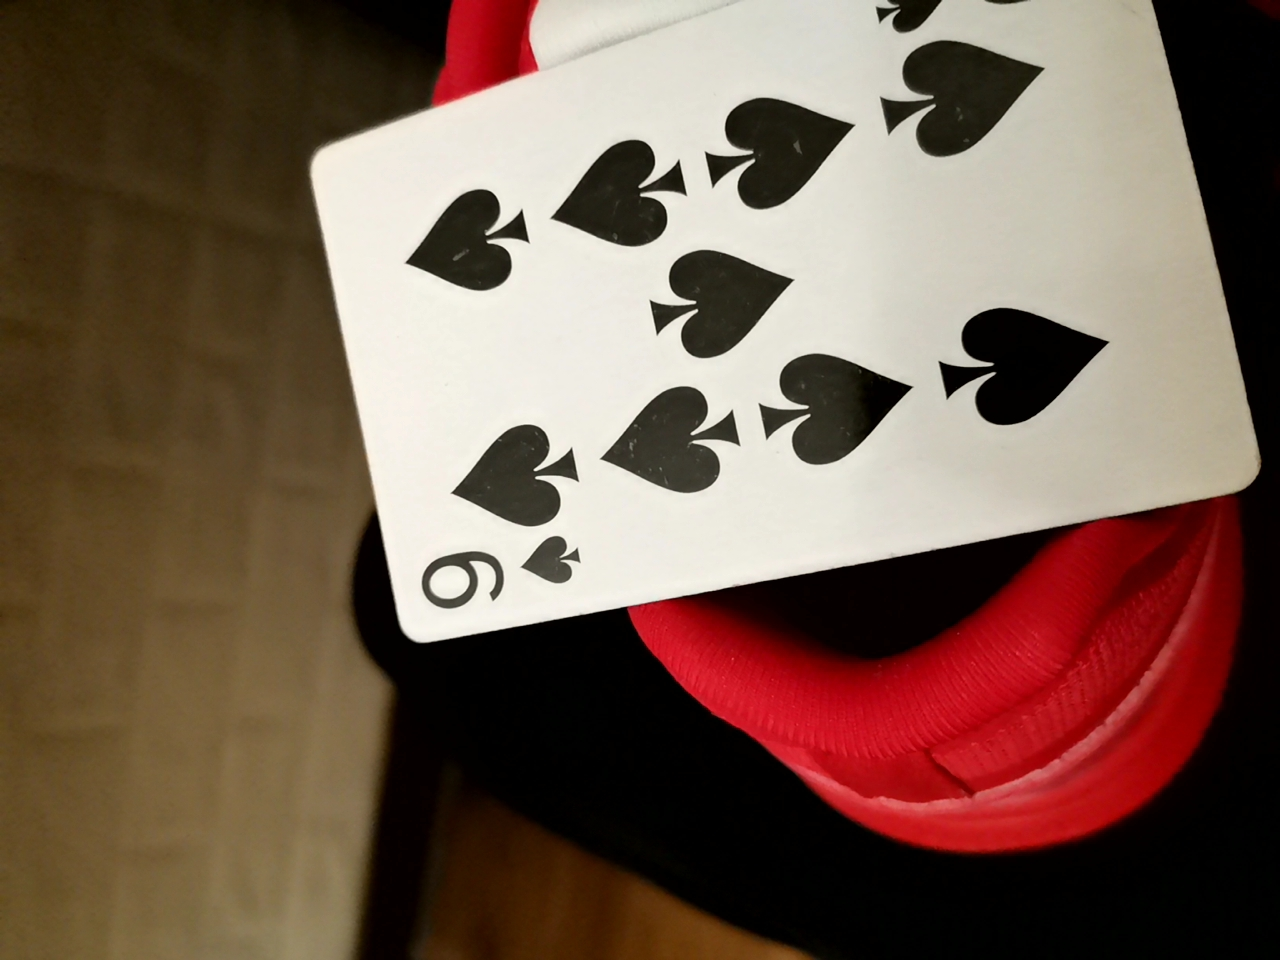ht 9: (292, 9, 1259, 674)
